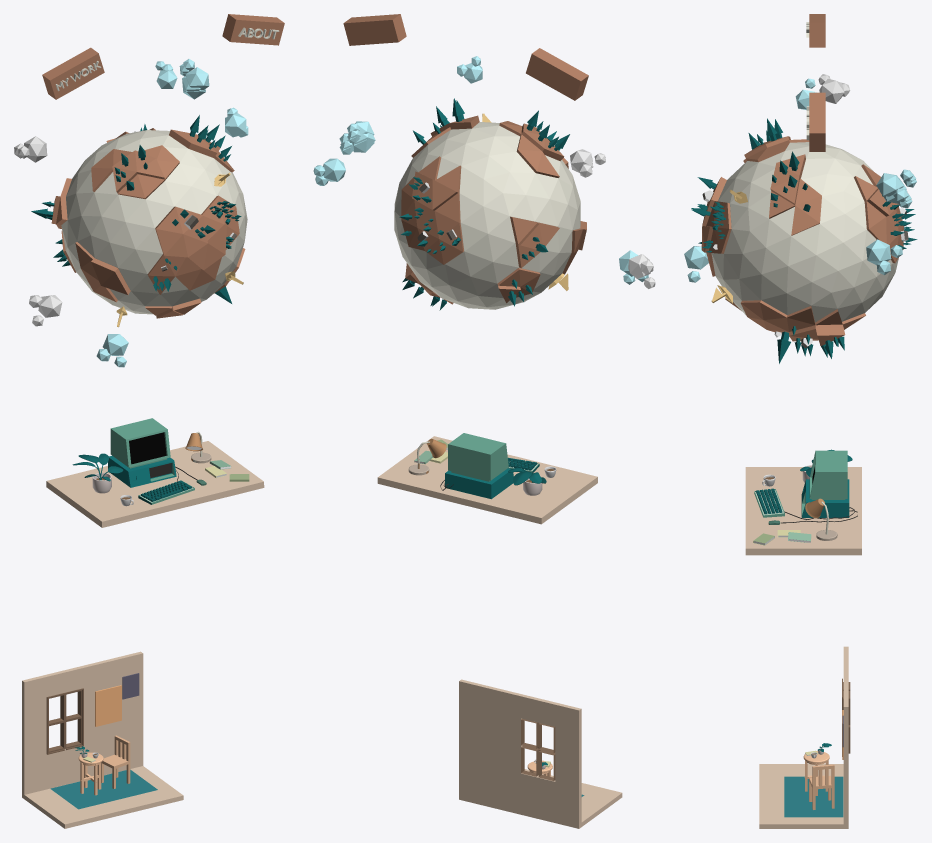
3 renders of one model, left to right at view 1: azimuth 30°, elevation 25°; view 2: azimuth 150°, elevation 25°; view 3: azimuth 270°, elevation 25°, orthographic. The views are drawn at different scales.
Parts seen in each view (by area): view 1: Icosphere.001, t6, Icosphere, c10, c11, Plane.079, t8, Cube, Cube.001, c9, t3, t1 (+6 smaller); view 2: Icosphere.001, t6, Icosphere, c10, c11, Plane.079, Cube, Cube.001, c9, Icosphere.020, Icosphere.003, c13; view 3: Icosphere.001, Icosphere, c10, t6, Plane.079, t8, c11, Cube.001, Icosphere.020, c9, t1, Icosphere.003 (+5 smaller).
Boxes of the visible parts, left/top/right/bottom form: Icosphere.001: left=61, top=130, right=247, bottom=314; t6: left=22, top=651, right=183, bottom=828; Icosphere: left=51, top=128, right=245, bottom=318; c10: left=46, top=441, right=264, bottom=527; c11: left=110, top=418, right=170, bottom=468; Plane.079: left=31, top=115, right=241, bottom=303; t8: left=50, top=769, right=157, bottom=809; Cube: left=42, top=47, right=104, bottom=99; Cube.001: left=222, top=14, right=284, bottom=45; c9: left=108, top=455, right=176, bottom=487; t3: left=95, top=685, right=121, bottom=726; t1: left=101, top=735, right=130, bottom=788; Icosphere.001: left=394, top=122, right=580, bottom=309; t6: left=459, top=679, right=622, bottom=828; Icosphere: left=401, top=115, right=586, bottom=304; c10: left=377, top=436, right=597, bottom=524; c11: left=448, top=433, right=508, bottom=481; Plane.079: left=399, top=98, right=569, bottom=310; Cube: left=526, top=48, right=588, bottom=100; Cube.001: left=343, top=14, right=406, bottom=45; c9: left=445, top=468, right=513, bottom=499; Icosphere.020: left=339, top=121, right=375, bottom=154; Icosphere.003: left=313, top=158, right=345, bottom=185; c13: left=508, top=467, right=546, bottom=495; Icosphere.001: left=711, top=142, right=898, bottom=322; Icosphere: left=701, top=136, right=903, bottom=345; c10: left=745, top=467, right=861, bottom=555; t6: left=759, top=646, right=850, bottom=828; Plane.079: left=691, top=118, right=917, bottom=363; t8: left=784, top=776, right=843, bottom=817; c11: left=809, top=450, right=847, bottom=499; Cube.001: left=809, top=92, right=825, bottom=151; Icosphere.020: left=876, top=169, right=916, bottom=208; c9: left=801, top=479, right=849, bottom=517; t1: left=809, top=764, right=834, bottom=809; Icosphere.003: left=866, top=239, right=902, bottom=275.
Size of the model in its own units: 3.49 by 8.97 by 2.45.
